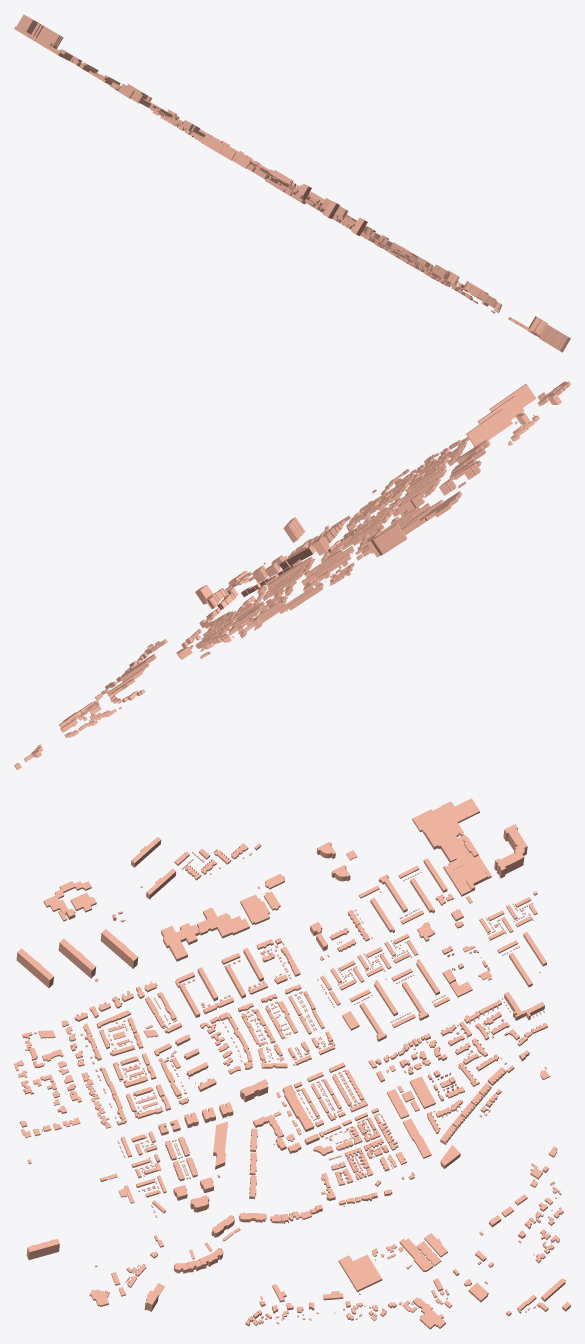
The picture shows the model from 3 angles, top to bottom: view 1: azimuth 30°, elevation 25°; view 2: azimuth 150°, elevation 25°; view 3: azimuth 270°, elevation 25°; orthographic projection. The views are drawn at different scales.
Bounding box in the file's own units: 1077 × 825 × 1249.
